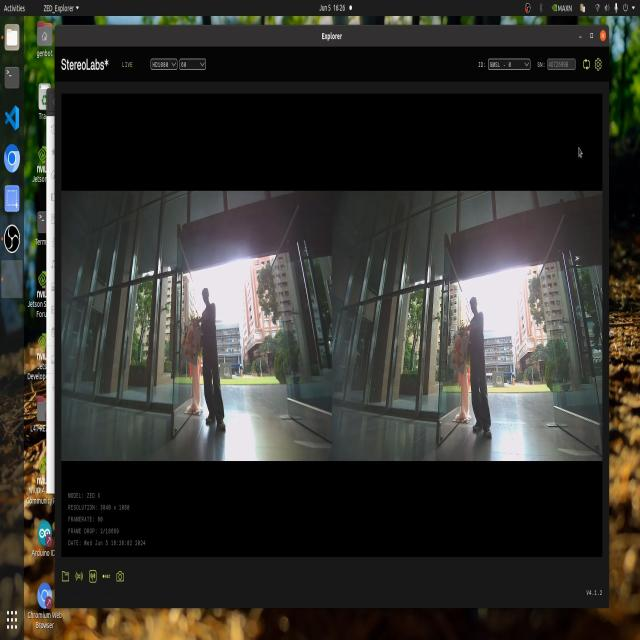red: (177, 330, 199, 365), (455, 336, 467, 380)
